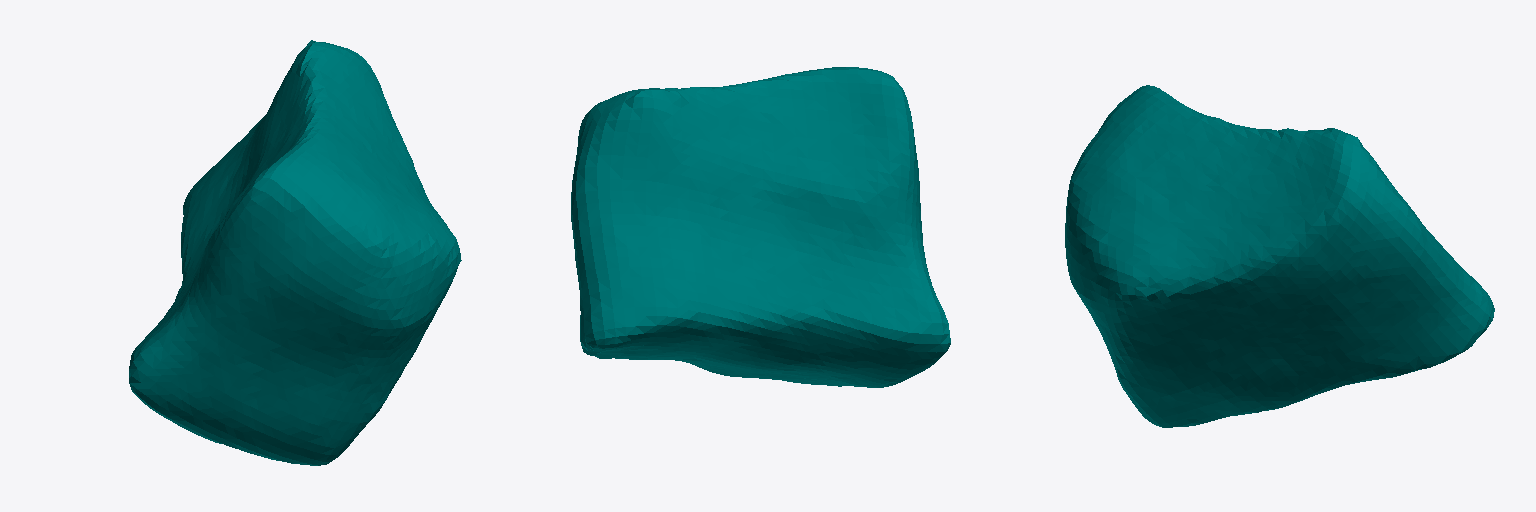
Rendered from Cuniform_Intermediate.obj.
3 views of the same model, side by side, from view 1: azimuth 30°, elevation 25°; view 2: azimuth 150°, elevation 25°; view 3: azimuth 270°, elevation 25° (orthographic).
Parts seen in each view (by area): view 1: Object_0Cuniform_Intermediate; view 2: Object_0Cuniform_Intermediate; view 3: Object_0Cuniform_Intermediate.
Part boxes in pixels (x1,y1,x2,y2): Object_0Cuniform_Intermediate: (129,40,461,465); Object_0Cuniform_Intermediate: (571,67,950,387); Object_0Cuniform_Intermediate: (1065,85,1494,427).
Bounding box in the file's own units: 23.91 × 24.93 × 28.97.